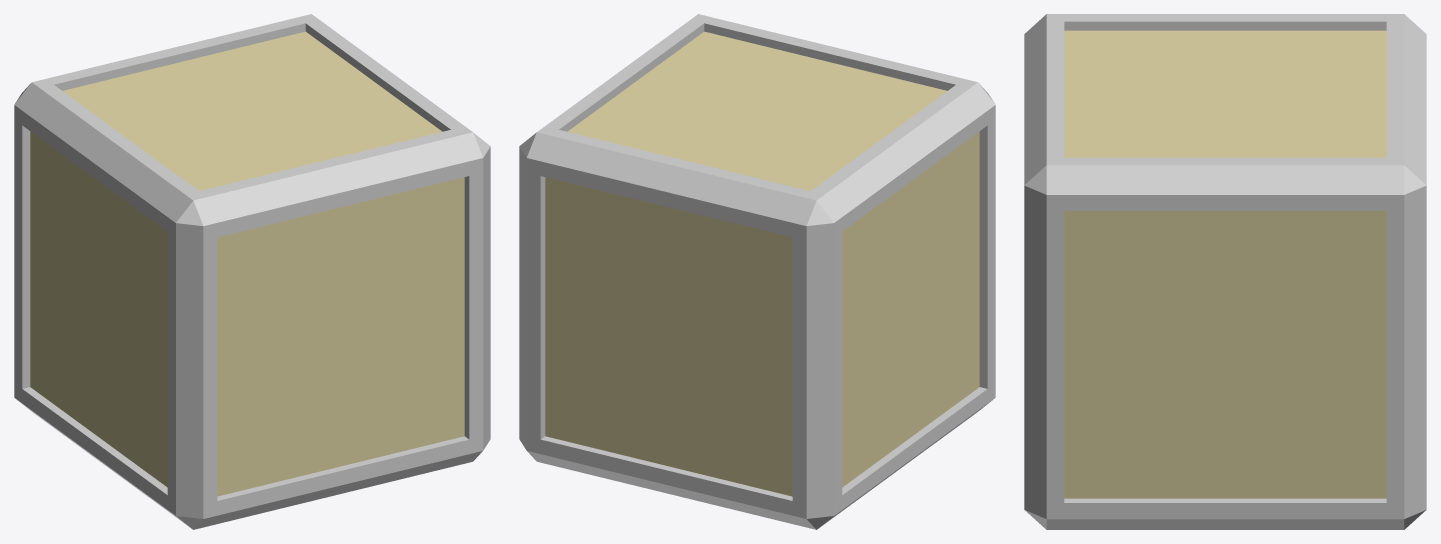
File: DICE.fbx
The picture shows the model from 3 angles, left to right: view 1: azimuth 30°, elevation 25°; view 2: azimuth 150°, elevation 25°; view 3: azimuth 270°, elevation 25°; orthographic projection. The views are drawn at different scales.
Parts seen in each view (by area): view 1: Cube; view 2: Cube; view 3: Cube.
Boxes of the visible parts, x1,y1,x2,y2 form: Cube: [14, 14, 490, 529]; Cube: [519, 14, 995, 529]; Cube: [1024, 14, 1426, 529].
Size of the model in its own units: 20.02 by 20.02 by 20.02.
